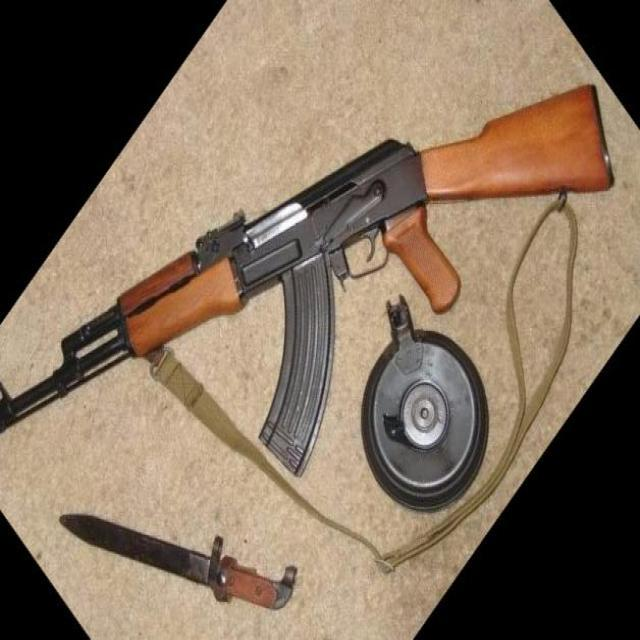weapon: (0, 85, 615, 477)
